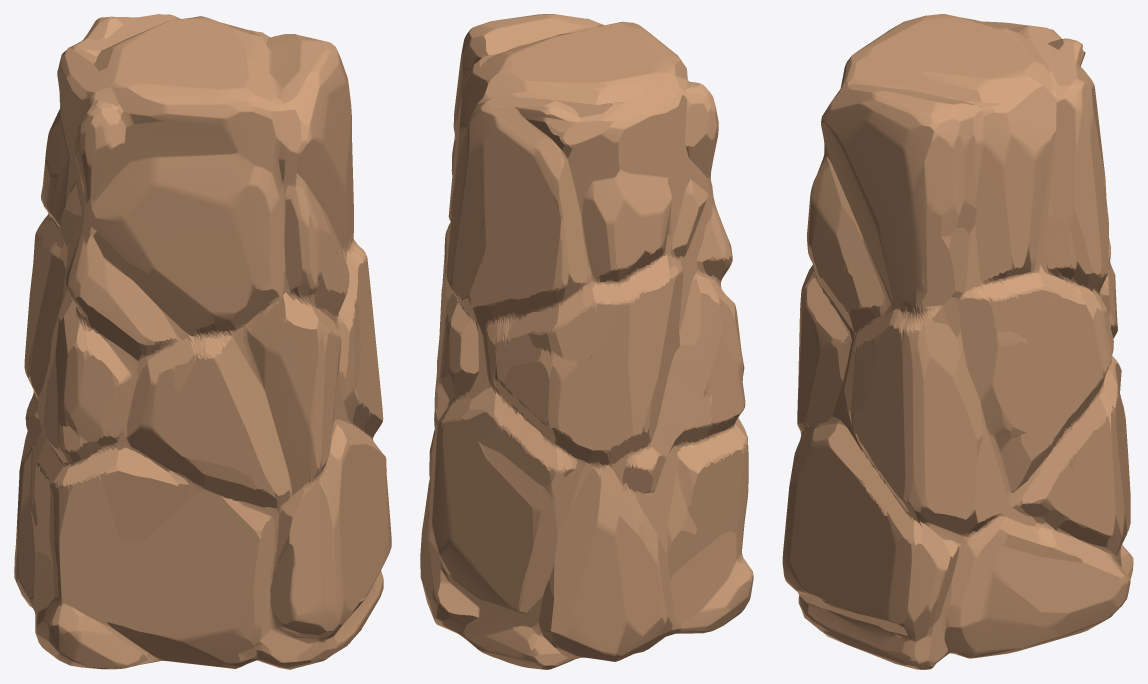
3 views of the same model, side by side, from view 1: azimuth 30°, elevation 25°; view 2: azimuth 150°, elevation 25°; view 3: azimuth 270°, elevation 25° (orthographic). The views are drawn at different scales.
Visible parts, largest first — view 1: Mesh_51_LOD0; view 2: Mesh_51_LOD0; view 3: Mesh_51_LOD0.
Boxes of the visible parts, <box> form: Mesh_51_LOD0: <box>14,14,391,669</box>; Mesh_51_LOD0: <box>420,14,753,669</box>; Mesh_51_LOD0: <box>782,14,1133,669</box>.
Size of what is drawn, in the model's own units: 1916 by 3147 by 1817.
